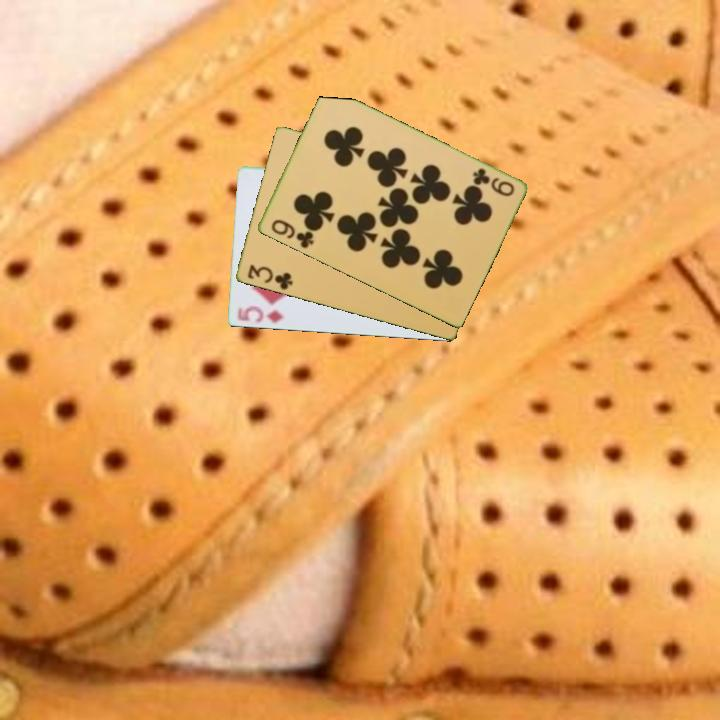3c: (244, 261, 295, 293)
5d: (233, 303, 286, 326)
9c: (267, 216, 317, 252), (469, 165, 517, 200)
